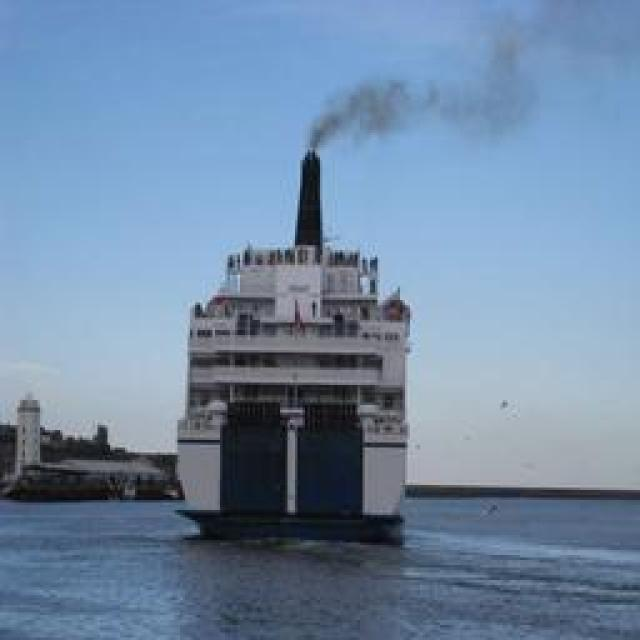ship: (170, 148, 418, 532)
